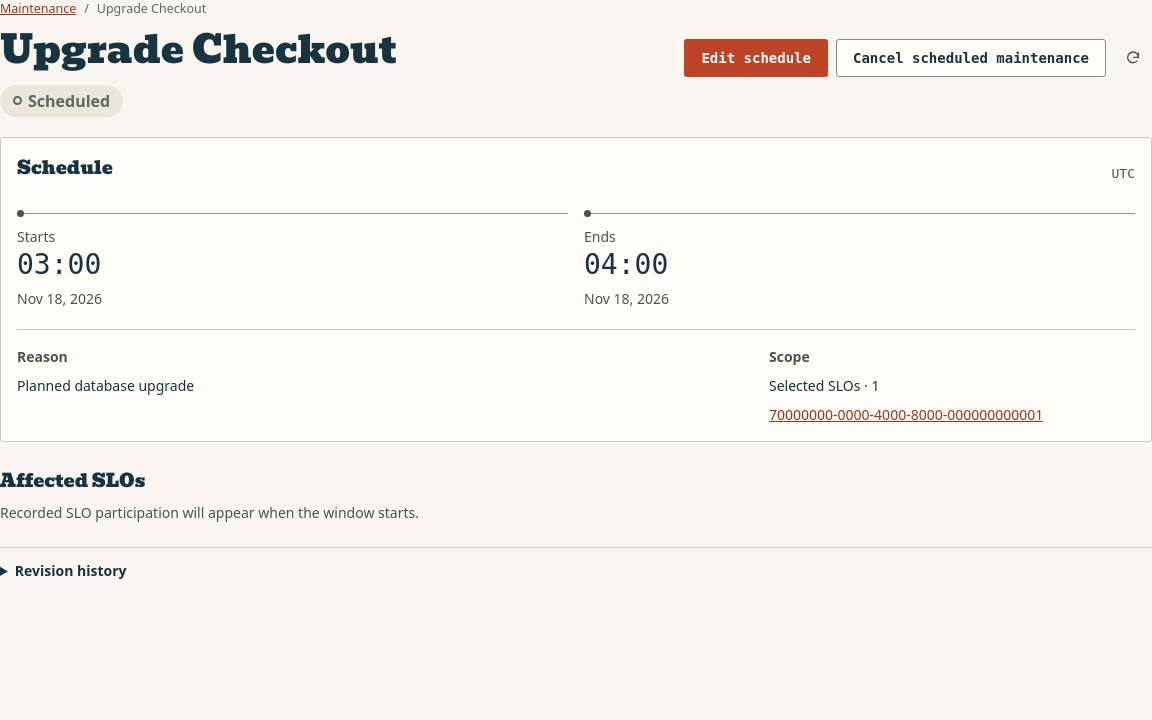
Test: can check an uncertain cancellation without giving up the draft
The image size is (1152, 720).
Click the button "Cancel scheduled maintenance" at coordinates (971, 58), box 836,39 -> 1106,77
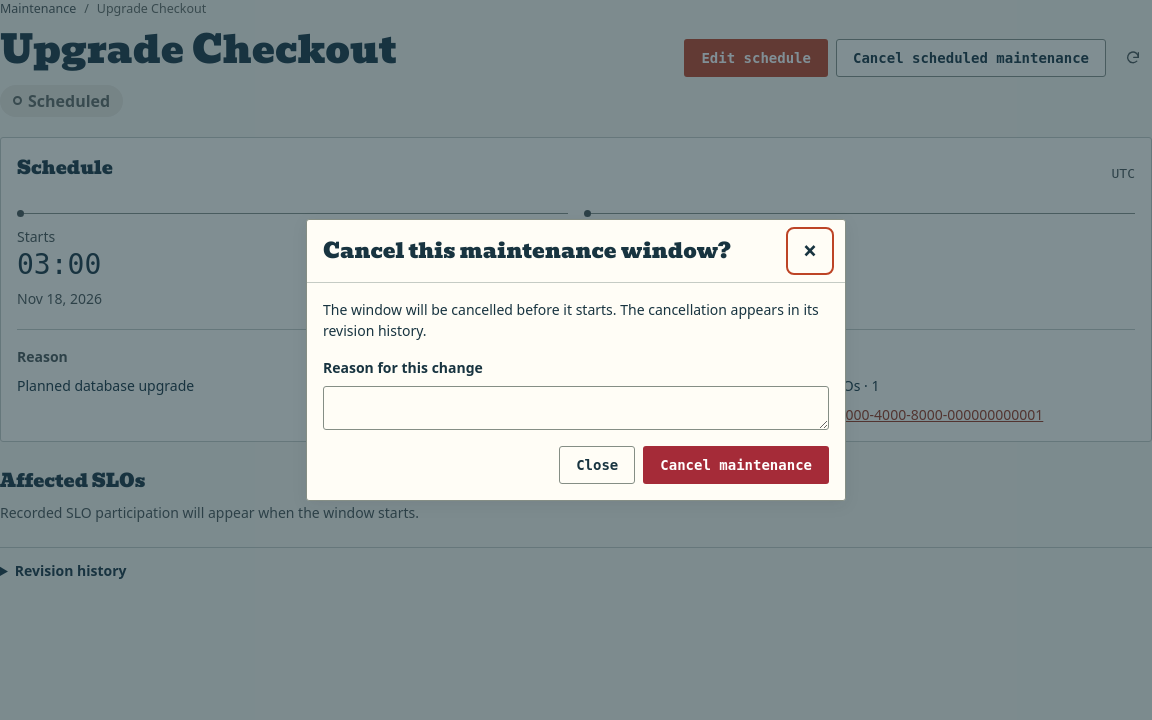
Type "Postpone the work." into the text box labelled "Reason for this change" at coordinates (576, 408), box 323,386 -> 829,430
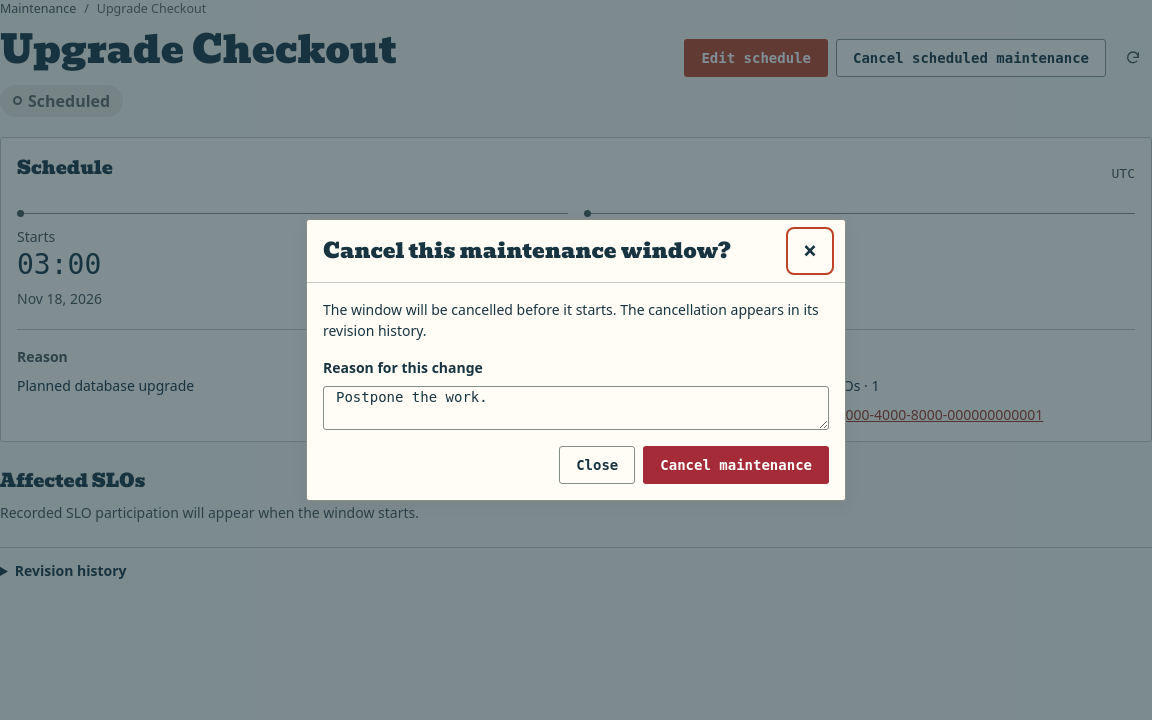
Click the button "Cancel maintenance" at coordinates (736, 465), box 643,446 -> 829,484
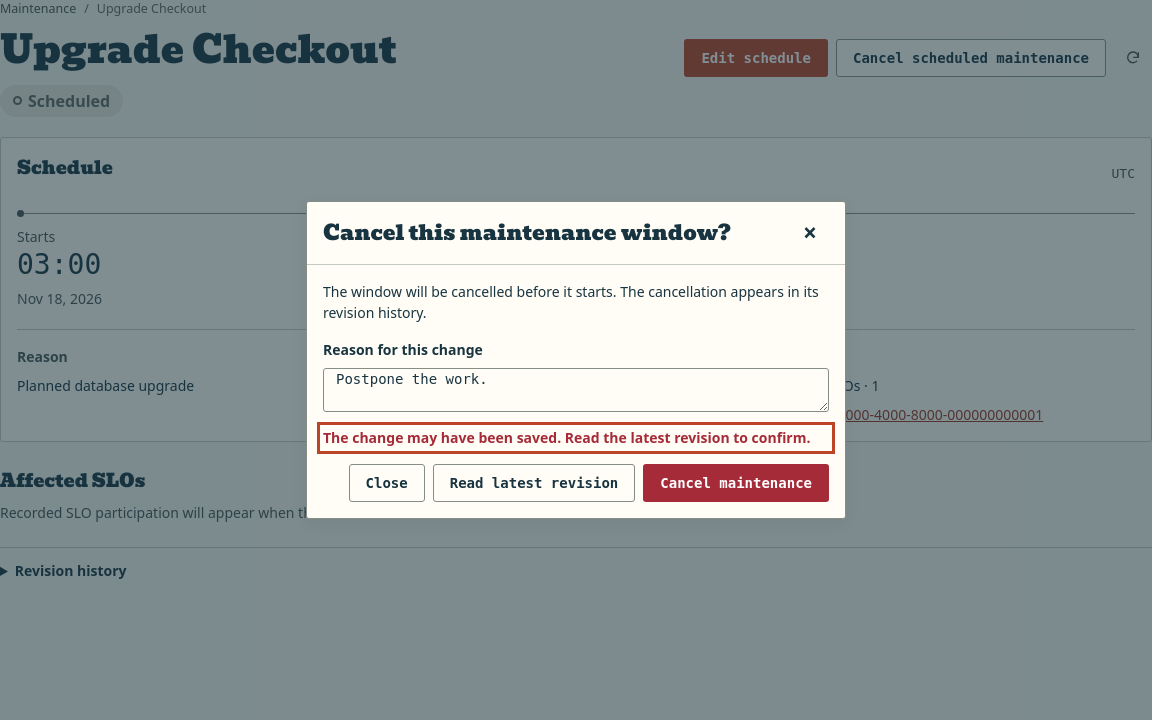
Click the button "Read latest revision" at coordinates (534, 483), box 433,464 -> 635,502
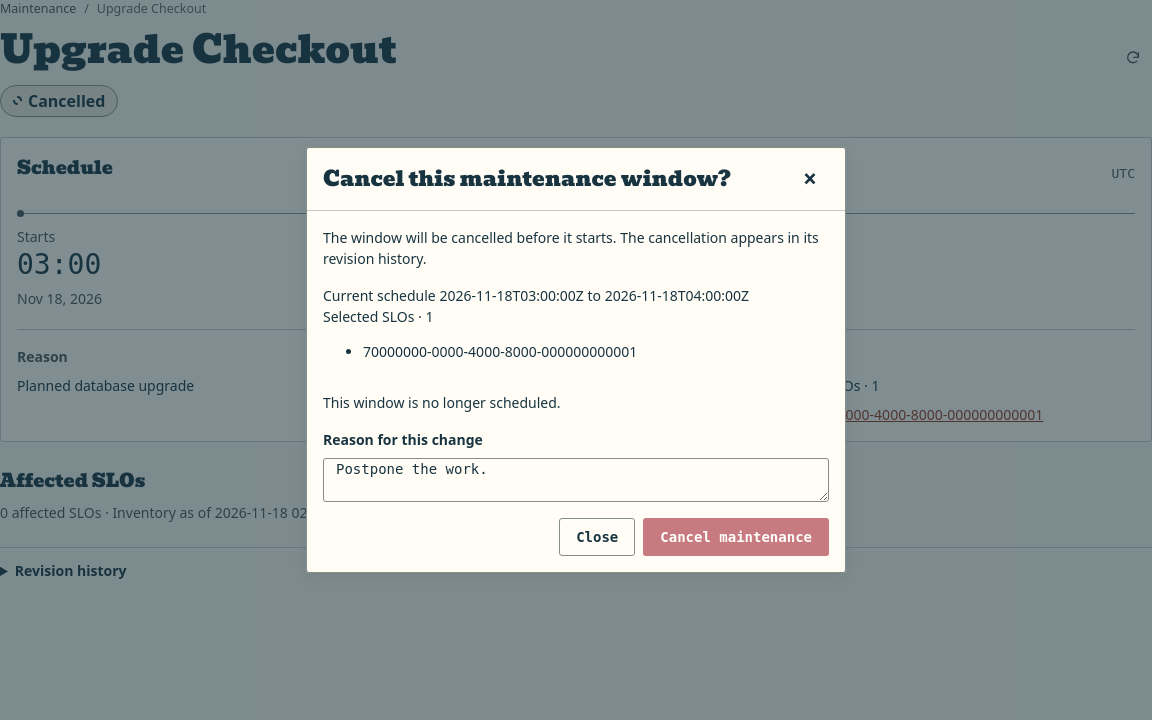
Expected: the text "Cancelled" is shown, 0,85 -> 118,117
Expected: the button "Cancel maintenance" is disabled, 643,518 -> 829,556
